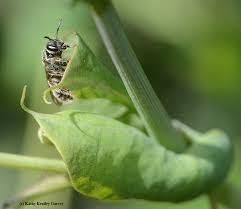Lasioglossum: (40, 17, 72, 111)
